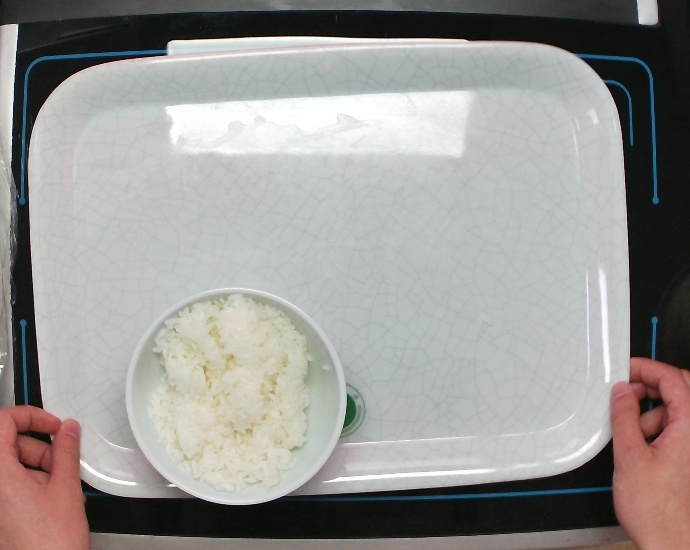JYsf-Fan_Wan: (123, 285, 349, 507)
